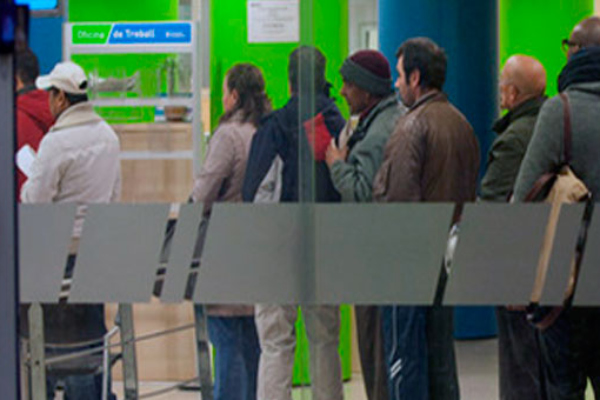person: (22, 47, 130, 212), (198, 48, 291, 225)
